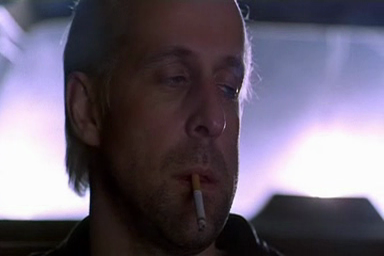cu: (1, 1, 384, 256)
face: (112, 3, 246, 250)
person: (44, 1, 282, 256)
